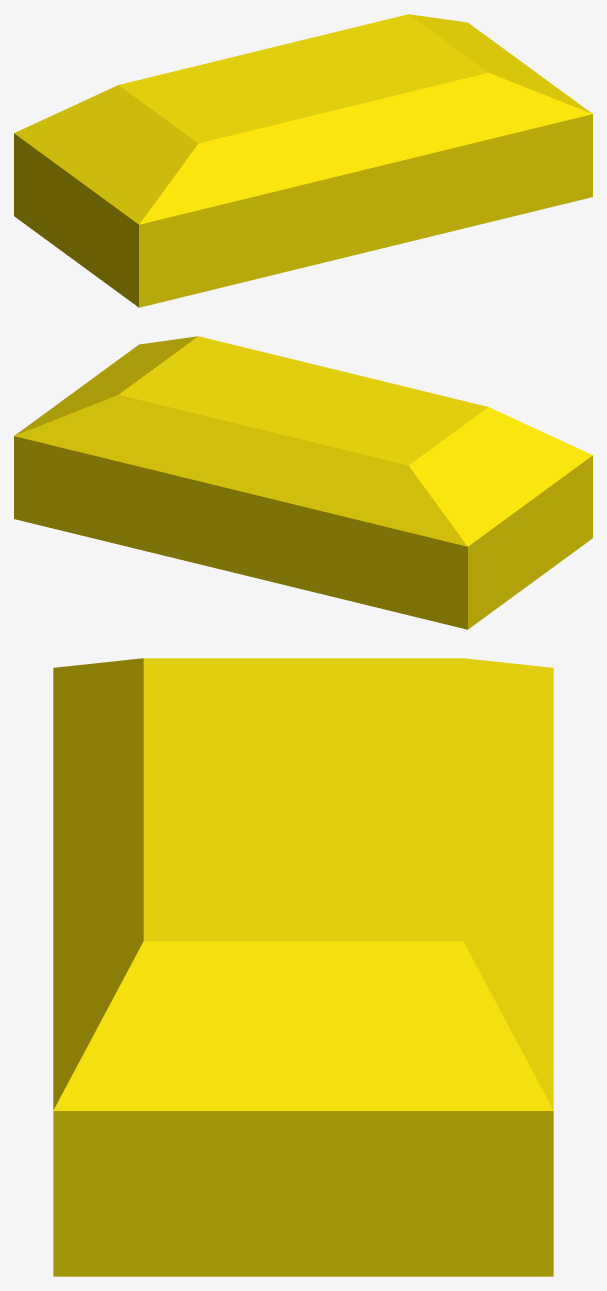
The model's file is Gold Bar.fbx.
3 views of the same model, one above another, from view 1: azimuth 30°, elevation 25°; view 2: azimuth 150°, elevation 25°; view 3: azimuth 270°, elevation 25° (orthographic). The views are drawn at different scales.
Parts seen in each view (by area): view 1: Bar Gold; view 2: Bar Gold; view 3: Bar Gold.
Part boxes in pixels (x1=…): Bar Gold: x1=14, y1=14, x2=592, y2=307; Bar Gold: x1=14, y1=336, x2=592, y2=629; Bar Gold: x1=53, y1=658, x2=553, y2=1276.
Size of the model in its own units: 36.8 by 9.9 by 17.57.
